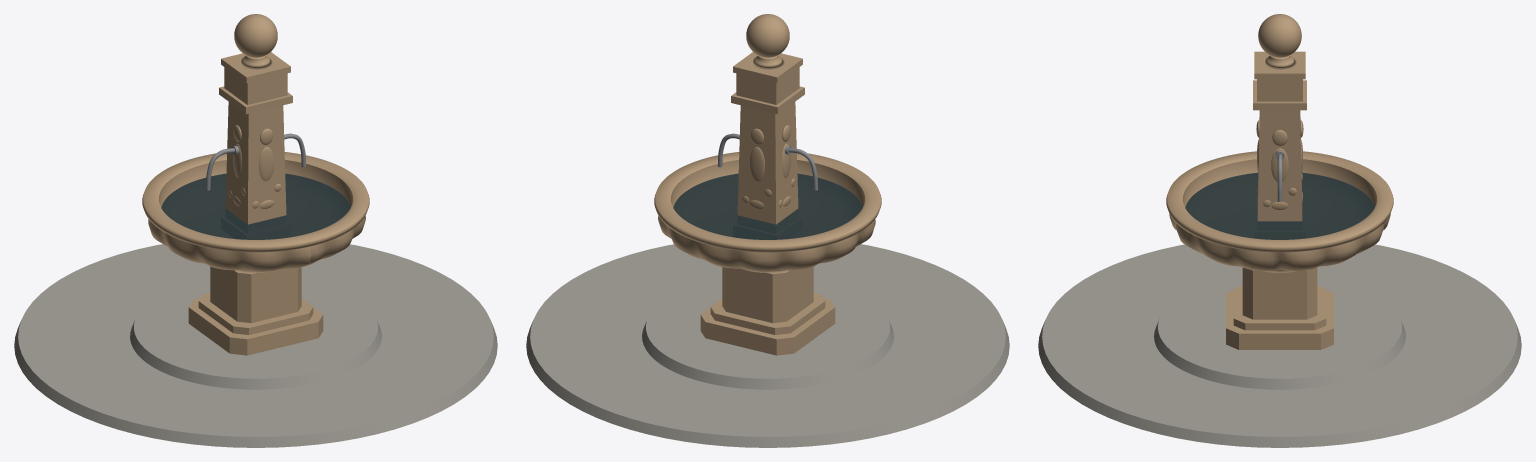
Rendered from brunnen_garten_quelle.glb.
3 views of the same model, side by side, from view 1: azimuth 30°, elevation 25°; view 2: azimuth 150°, elevation 25°; view 3: azimuth 270°, elevation 25° (orthographic).
Parts seen in each view (by area): view 1: paving_disc, paving_step, water_surface, bowl_rim, pillar_shaft, pedestal_shaft, bowl_outer_lobed, pedestal_plinth, bowl_inner, pedestal_plinth_moulding, finial_ball, capital_block (+2 smaller); view 2: paving_disc, paving_step, water_surface, bowl_rim, pillar_shaft, pedestal_shaft, bowl_outer_lobed, pedestal_plinth, bowl_inner, pedestal_plinth_moulding, finial_ball, capital_block (+2 smaller); view 3: paving_disc, paving_step, water_surface, bowl_rim, pillar_shaft, bowl_outer_lobed, pedestal_shaft, pedestal_plinth, bowl_inner, pedestal_plinth_moulding, finial_ball, capital_block (+2 smaller).
Part boxes in pixels (x1,y1,x2,y2): paving_disc: (14,244,497,447); paving_step: (130,279,381,389); water_surface: (161,173,350,239); bowl_rim: (142,152,369,252); pillar_shaft: (225,102,286,224); pedestal_shaft: (210,266,301,323); bowl_outer_lobed: (148,216,365,271); pedestal_plinth: (188,298,323,355); bowl_inner: (159,160,352,207); pedestal_plinth_moulding: (198,292,313,334); finial_ball: (234,14,277,57); capital_block: (224,67,287,104); paving_disc: (526,244,1009,447); paving_step: (642,279,893,389); water_surface: (673,173,862,239); bowl_rim: (654,152,881,252); pillar_shaft: (737,102,798,224); pedestal_shaft: (722,266,813,323); bowl_outer_lobed: (658,216,875,271); pedestal_plinth: (700,298,835,355); bowl_inner: (671,160,864,207); pedestal_plinth_moulding: (710,292,825,334); finial_ball: (746,14,789,57); capital_block: (736,67,799,104); paving_disc: (1038,244,1521,447); paving_step: (1154,278,1405,389); water_surface: (1185,172,1374,239); bowl_rim: (1166,151,1393,252); pillar_shaft: (1257,110,1302,221); bowl_outer_lobed: (1169,214,1390,271); pedestal_shaft: (1242,267,1317,319); pedestal_plinth: (1226,290,1333,349); bowl_inner: (1183,159,1376,207); pedestal_plinth_moulding: (1233,285,1326,330); finial_ball: (1258,14,1301,57); capital_block: (1257,79,1302,101).
Bounding box in the file's own units: 3.76 × 2.83 × 3.76.
